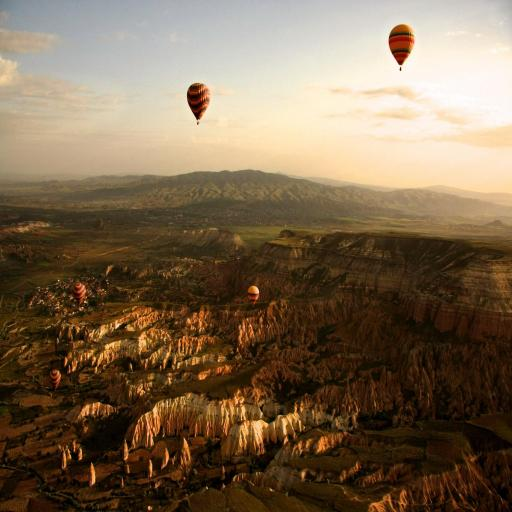hot air ballon: (388, 18, 414, 74), (184, 78, 212, 129)
